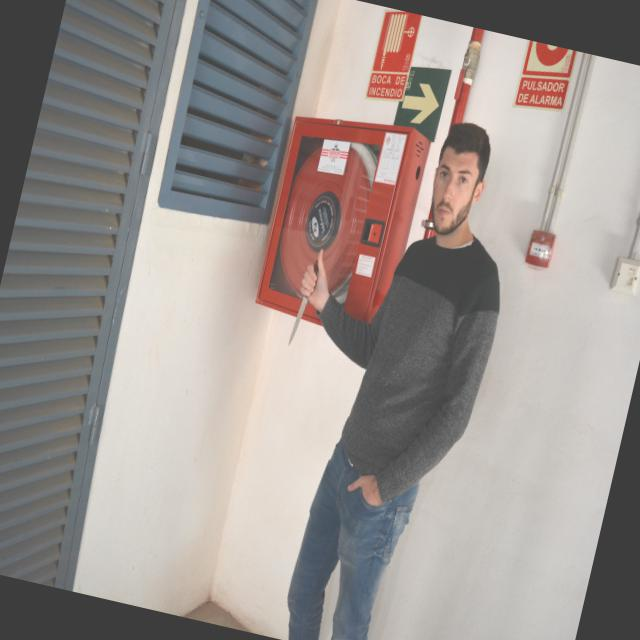knife: (284, 252, 324, 352)
